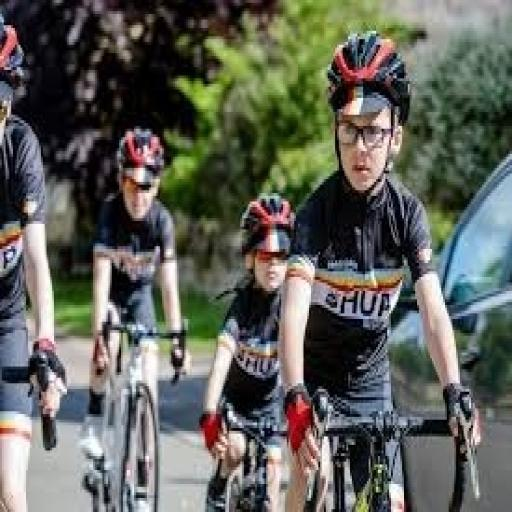cycling: (277, 28, 484, 509), (78, 123, 190, 509), (0, 14, 69, 509), (197, 190, 298, 509)
